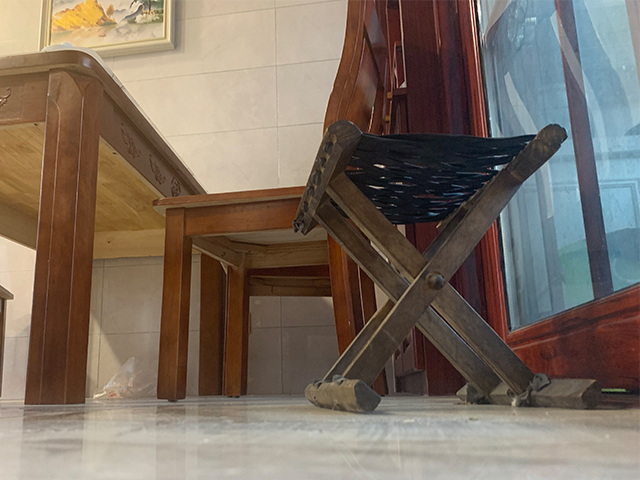stool: (151, 1, 390, 403), (291, 119, 605, 414)
table: (1, 49, 225, 407)
